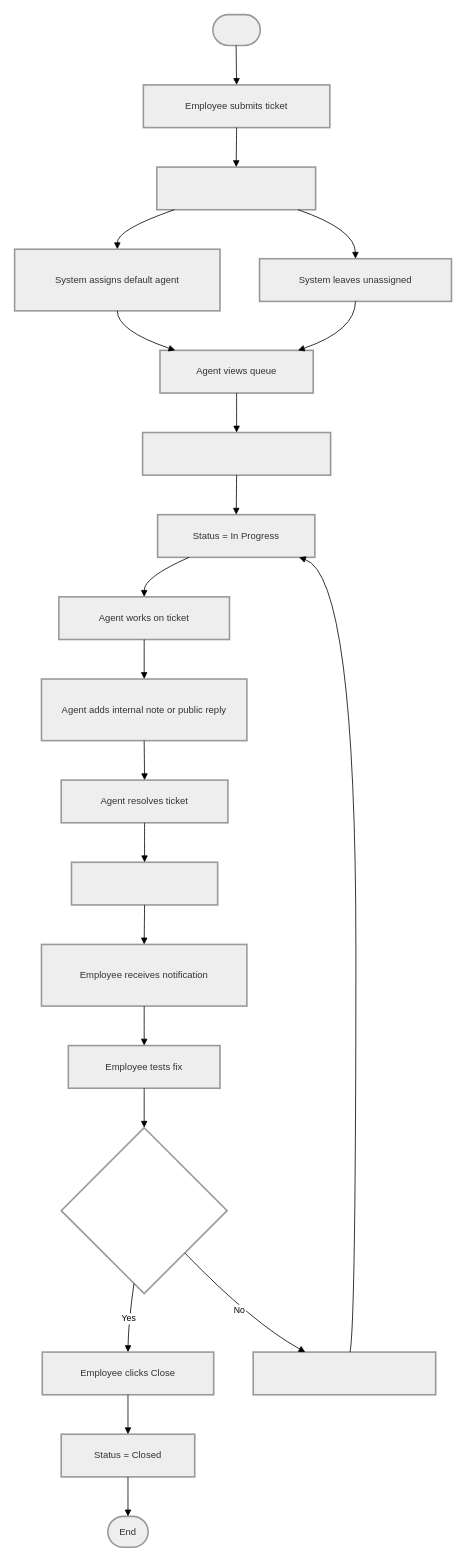
The diagram is 465 pixels wide and 1561 high, and some of its shapes have lost their labels. Each missing label, with the centre of its shape:
"Agent clicks Assign to Me" belongs at pixel 236 453.
"Employee clicks Reopen" belongs at pixel 344 1373.
"Is employee satisfied?" belongs at pixel 144 1210.
"Start" belongs at pixel 236 29.
"Status = Resolved" belongs at pixel 144 883.
"Ticket status = New" belongs at pixel 236 188.
